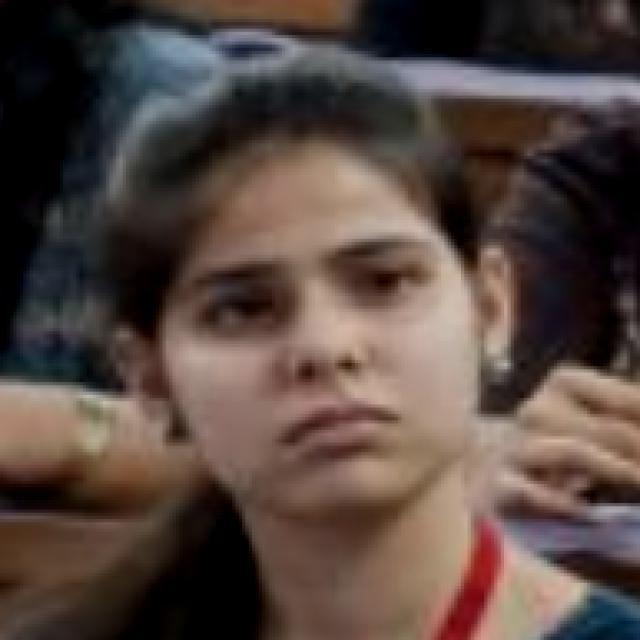Looking forward: (175, 155, 485, 520)
